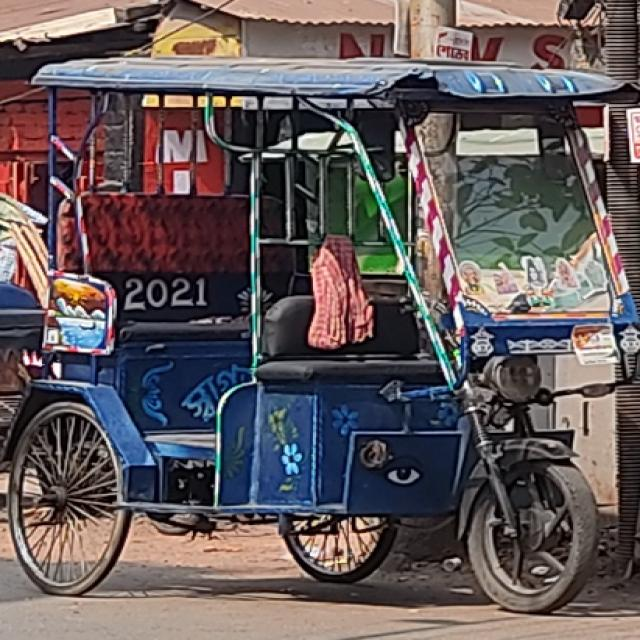rickshaw: (18, 42, 606, 626)
